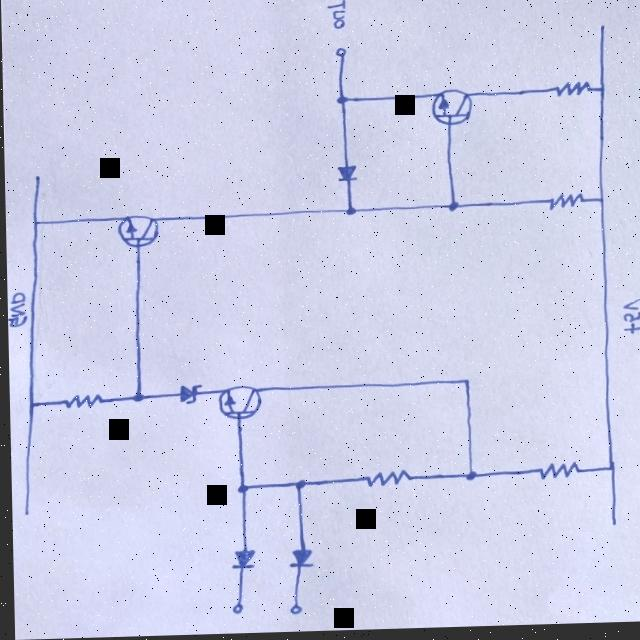diode: (279, 540, 314, 575), (223, 544, 255, 577), (331, 161, 360, 190), (173, 384, 202, 408)
junction: (281, 475, 309, 500), (458, 469, 484, 493), (228, 477, 254, 501), (456, 374, 480, 398), (440, 199, 466, 220), (599, 463, 620, 485), (124, 390, 147, 409), (340, 205, 360, 225), (329, 94, 354, 110), (597, 84, 616, 104), (591, 197, 610, 215), (22, 396, 39, 415), (25, 215, 42, 233)
resistor: (357, 469, 416, 496), (531, 461, 582, 488), (543, 193, 586, 217), (550, 83, 594, 104), (61, 394, 103, 411)
terminal: (324, 43, 355, 75), (218, 596, 246, 623), (277, 598, 306, 623), (25, 167, 48, 197), (600, 516, 620, 542), (592, 21, 612, 46), (14, 499, 32, 523)
text: (322, 0, 353, 34), (7, 289, 29, 334), (619, 297, 640, 342)
transistor: (428, 90, 475, 133), (217, 385, 262, 426), (115, 212, 159, 250)
